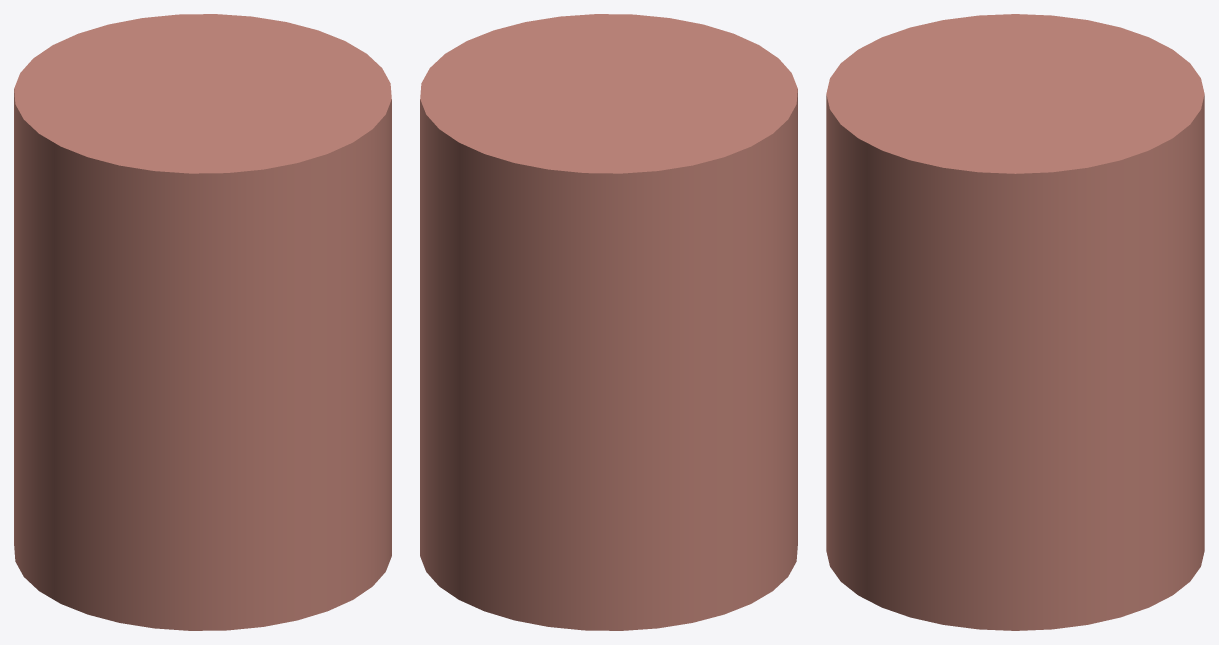
The model's file is Column01.fbx.
3 views of the same model, side by side, from view 1: azimuth 30°, elevation 25°; view 2: azimuth 150°, elevation 25°; view 3: azimuth 270°, elevation 25° (orthographic).
Visible parts, largest first — view 1: Column01.002; view 2: Column01.002; view 3: Column01.002.
Part boxes in pixels (x1=…): Column01.002: x1=14, y1=14, x2=391, y2=630; Column01.002: x1=420, y1=14, x2=797, y2=630; Column01.002: x1=826, y1=14, x2=1204, y2=630.
Bounding box in the file's own units: 150 × 200 × 150.
